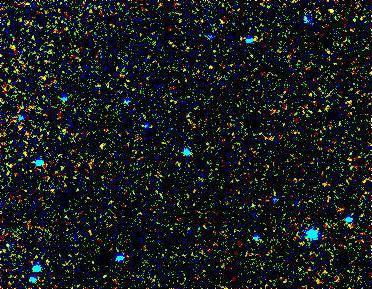star: (320, 1, 350, 31)
